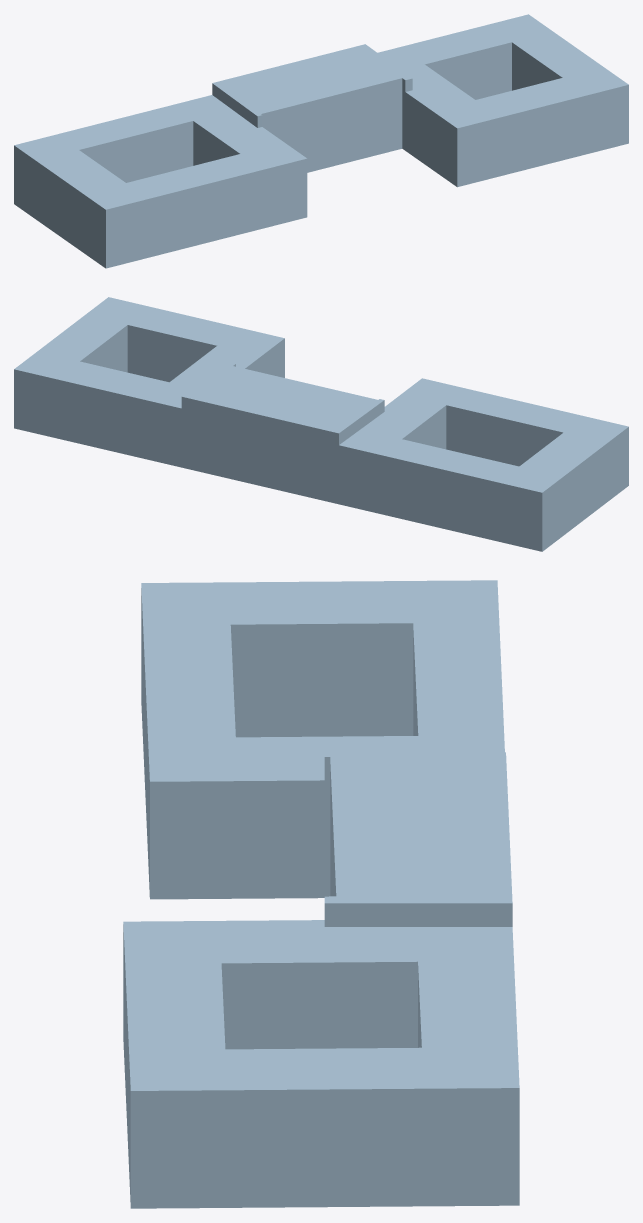
The model's file is osm_way_223699452.glb.
3 views of the same model, one above another, from view 1: azimuth 30°, elevation 25°; view 2: azimuth 150°, elevation 25°; view 3: azimuth 270°, elevation 25° (orthographic). The views are drawn at different scales.
Parts seen in each view (by area): view 1: osm_way_223699452; view 2: osm_way_223699452; view 3: osm_way_223699452.
Part boxes in pixels (left/top/right/bottom): osm_way_223699452: left=14, top=14, right=628, bottom=268; osm_way_223699452: left=14, top=297, right=628, bottom=551; osm_way_223699452: left=123, top=580, right=519, bottom=1208.
Size of the model in its own units: 172 by 22.2 by 56.47.
